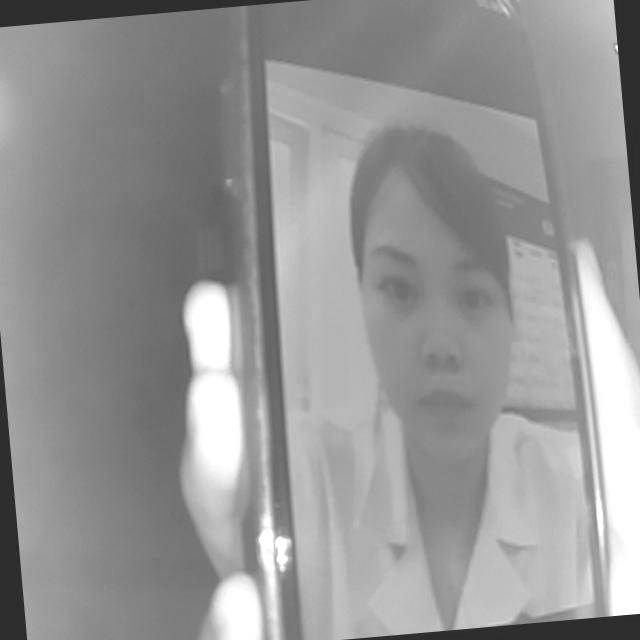fake: (198, 0, 615, 640)
